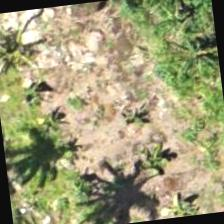Kelapa_Sawit: (0, 8, 61, 106), (115, 0, 212, 54)
